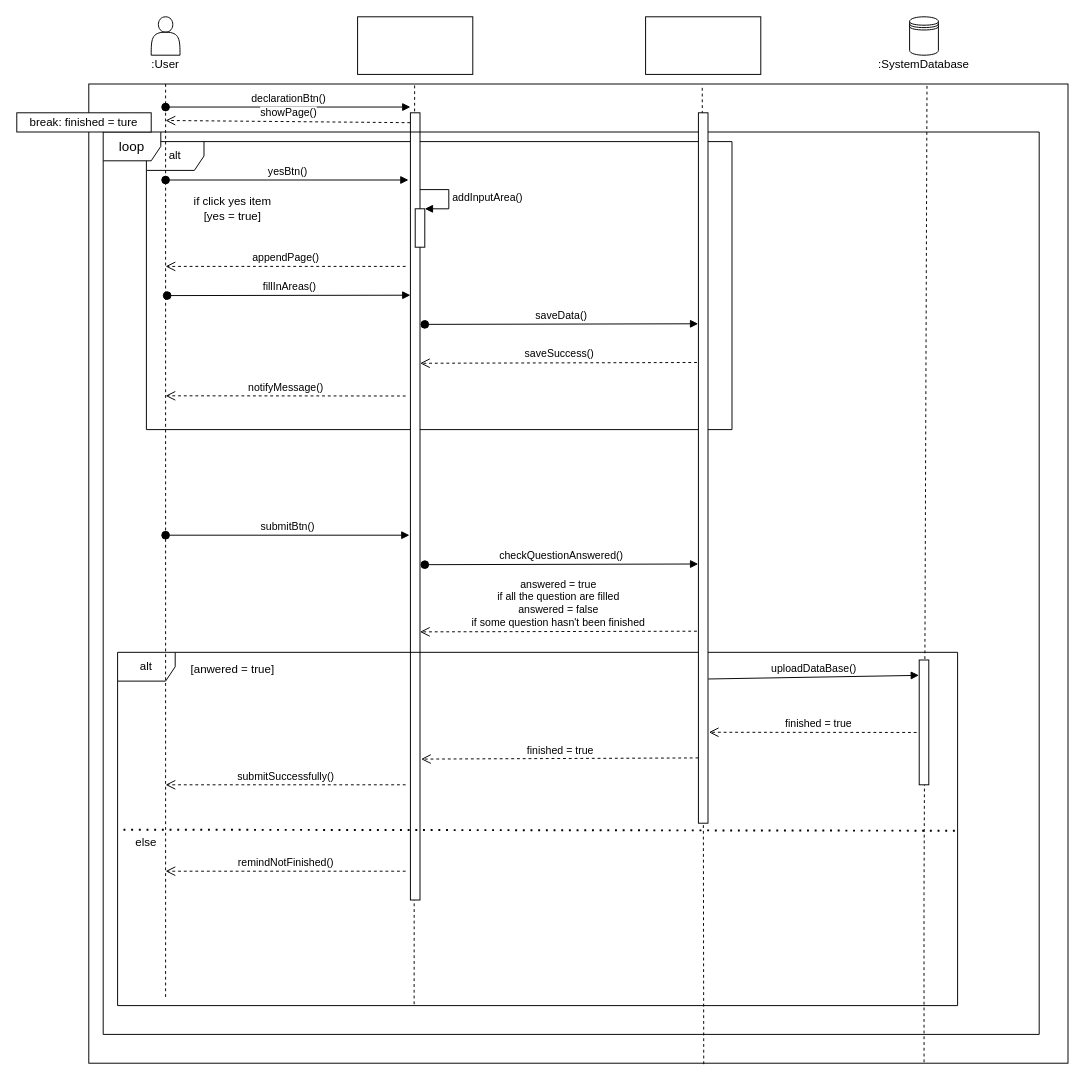
The diagram is 1085 pixels wide and 1083 high, and some of its shapes have lost their labels. The shapes that lost their labels are listed below. From the top down, each one's centre as x and y in pixels, then its label:
At pixel 415 45: ":Health Declaration Font-End".
At pixel 703 45: ":Health Declaration Back-End".
